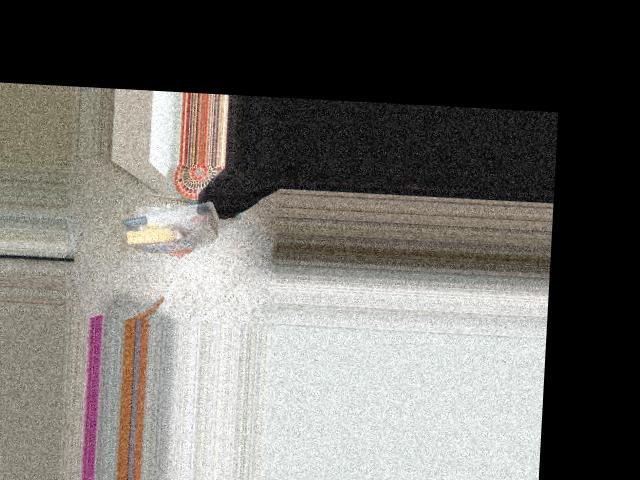cheese: (120, 193, 218, 257)
